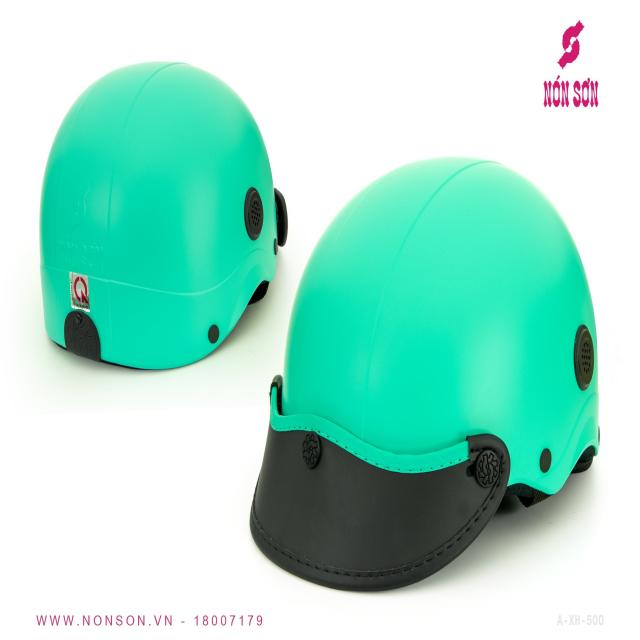Helmet: (236, 144, 611, 590), (30, 34, 287, 384)
